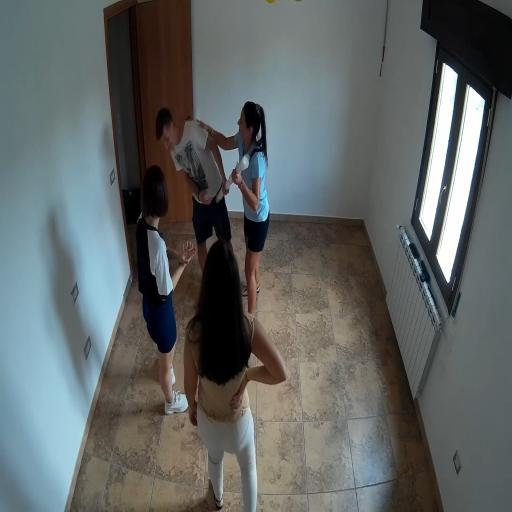nao-violencia: (141, 90, 299, 345)
